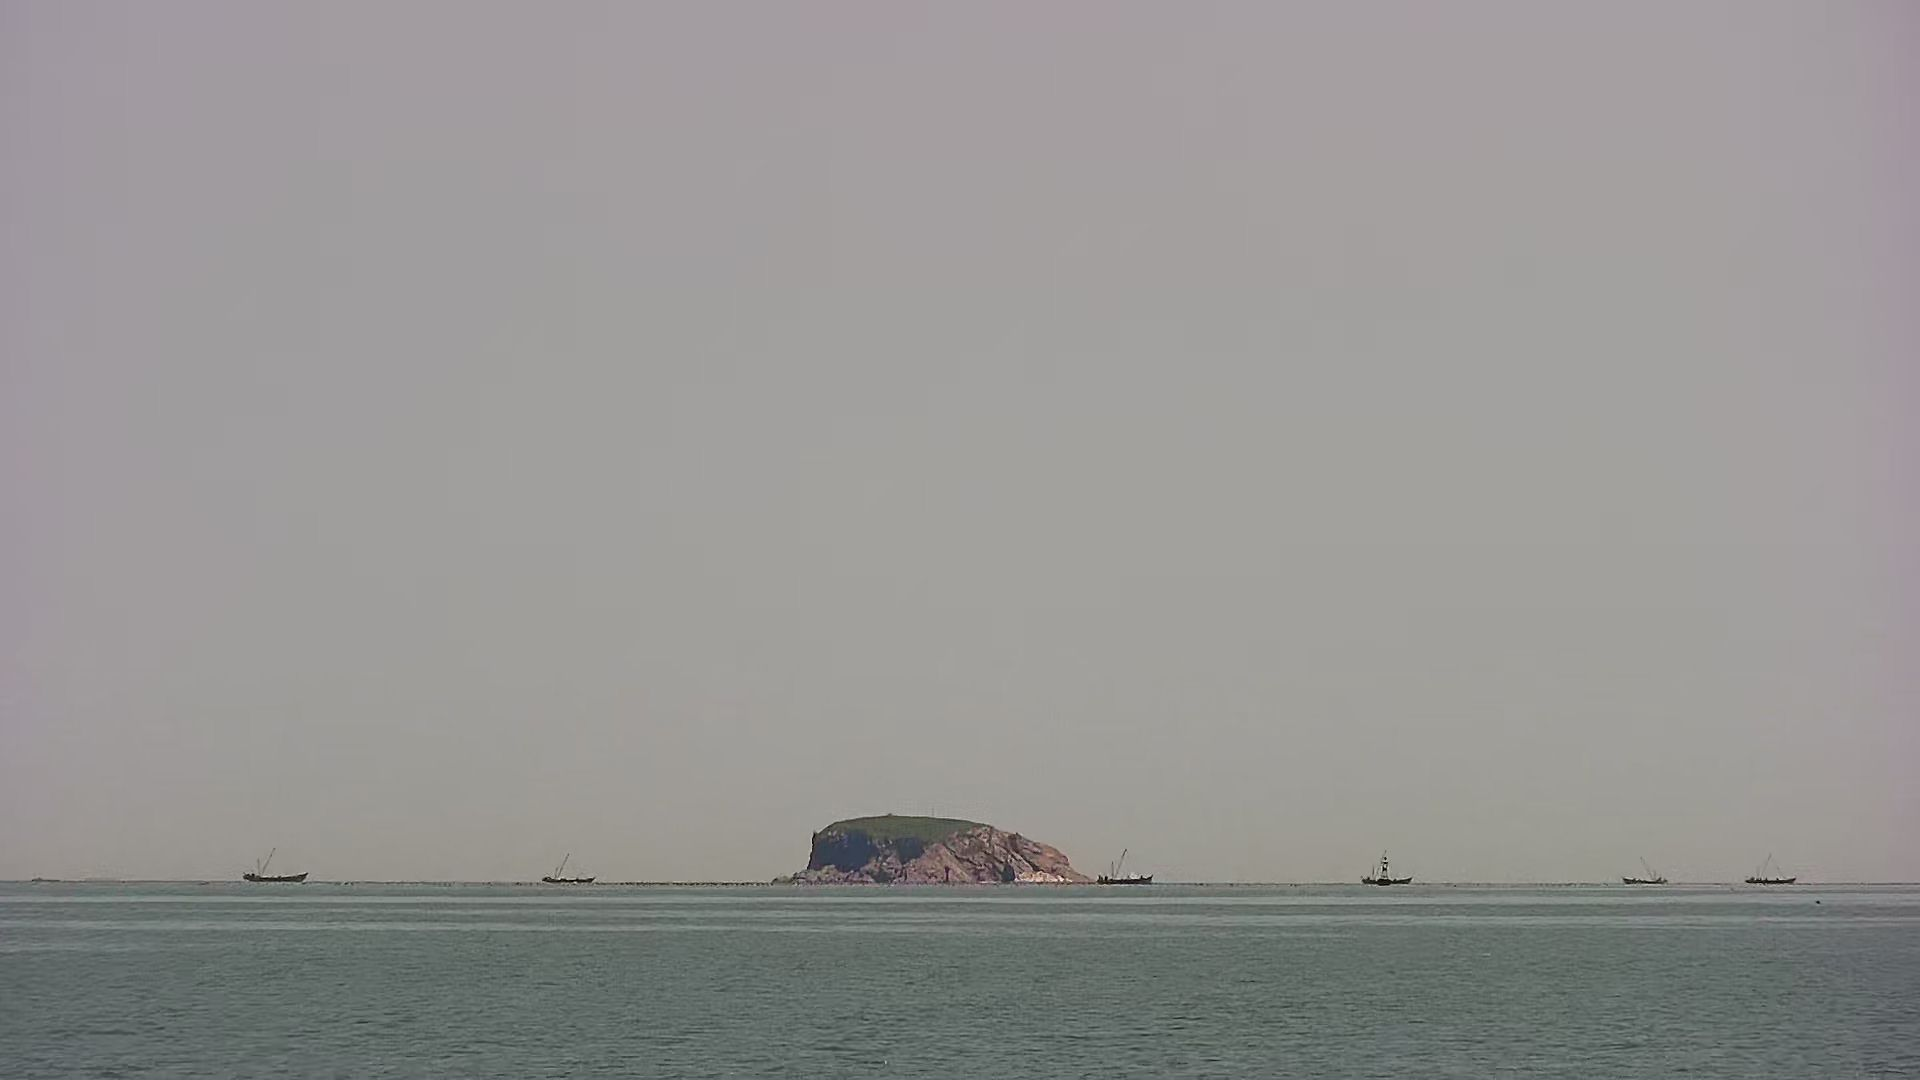rock: (767, 806, 1097, 891)
ship: (1084, 866, 1168, 891), (1349, 860, 1418, 886), (237, 865, 322, 884), (538, 872, 607, 894), (1743, 873, 1807, 894), (1621, 876, 1673, 891)
